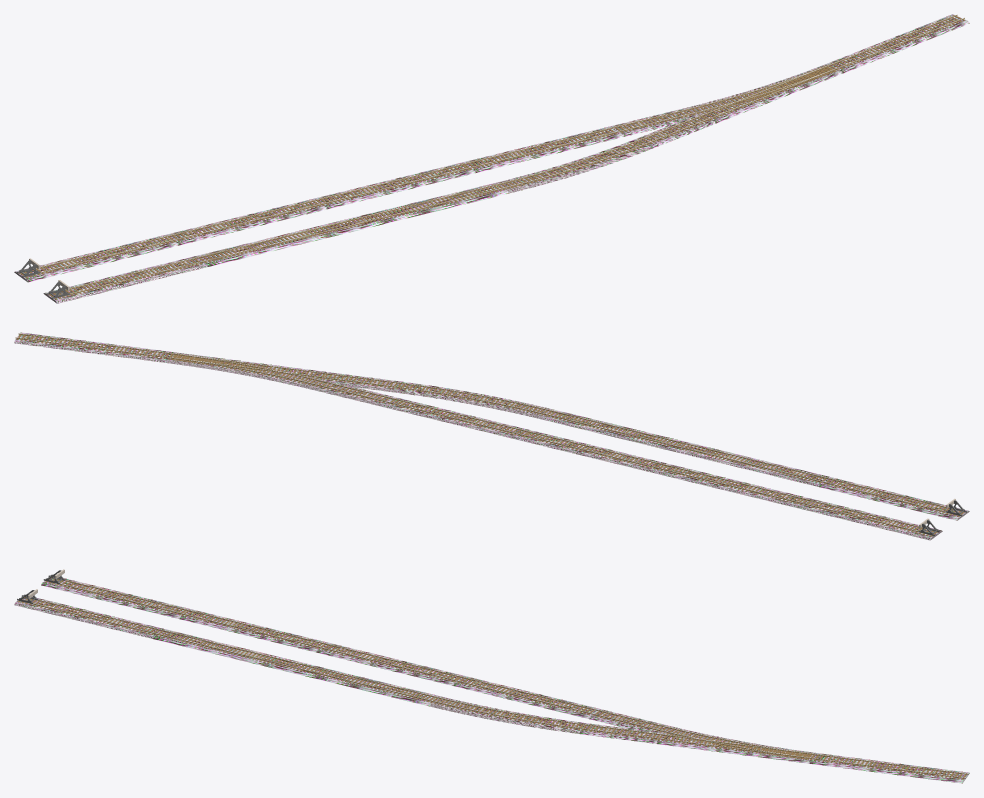
The model's file is GMLID_0632464_192141_968.gltf.
3 views of the same model, one above another, from view 1: azimuth 30°, elevation 25°; view 2: azimuth 150°, elevation 25°; view 3: azimuth 330°, elevation 25° (orthographic). The views are drawn at different scales.
Visible parts, largest first — view 1: Z_UP; view 2: Z_UP; view 3: Z_UP.
Part boxes in pixels (box(x1,y1,x2,y2)): Z_UP: box(14, 14, 969, 303); Z_UP: box(14, 332, 969, 540); Z_UP: box(14, 569, 969, 783).
Size of the model in its own units: 213 by 2.52 by 27.57.
7 materials, 1 textured.
